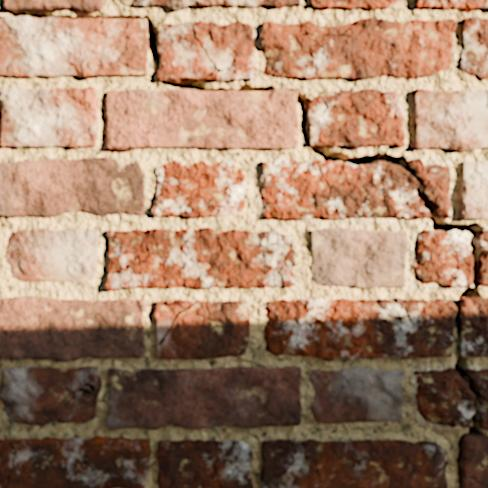brick: (106, 367, 300, 429), (263, 298, 456, 360), (259, 18, 455, 79), (106, 228, 296, 290), (106, 89, 298, 150), (0, 296, 144, 360), (0, 17, 147, 78), (261, 440, 446, 487), (0, 158, 144, 216), (0, 436, 150, 487), (0, 87, 97, 147), (1, 367, 100, 424), (311, 228, 406, 286), (309, 89, 404, 147), (154, 301, 249, 358), (153, 160, 246, 217), (310, 367, 403, 422), (6, 228, 97, 282), (157, 440, 252, 487), (413, 90, 487, 150), (195, 21, 253, 80), (158, 22, 213, 80), (119, 0, 299, 10), (459, 17, 487, 78), (458, 298, 487, 356), (459, 162, 487, 218), (461, 436, 487, 487), (5, 0, 102, 12), (311, 0, 399, 9), (416, 0, 487, 10), (207, 75, 213, 79)
broken_brick: (258, 158, 428, 219), (413, 367, 473, 427), (412, 229, 471, 288), (408, 158, 451, 218), (467, 368, 487, 430), (479, 234, 487, 286)
crack: (0, 0, 487, 487), (158, 300, 198, 345), (130, 228, 168, 274), (273, 440, 295, 485), (300, 441, 323, 483), (64, 379, 99, 406), (428, 91, 439, 125), (205, 301, 219, 327), (413, 88, 420, 96), (0, 15, 7, 22), (0, 90, 3, 97)
